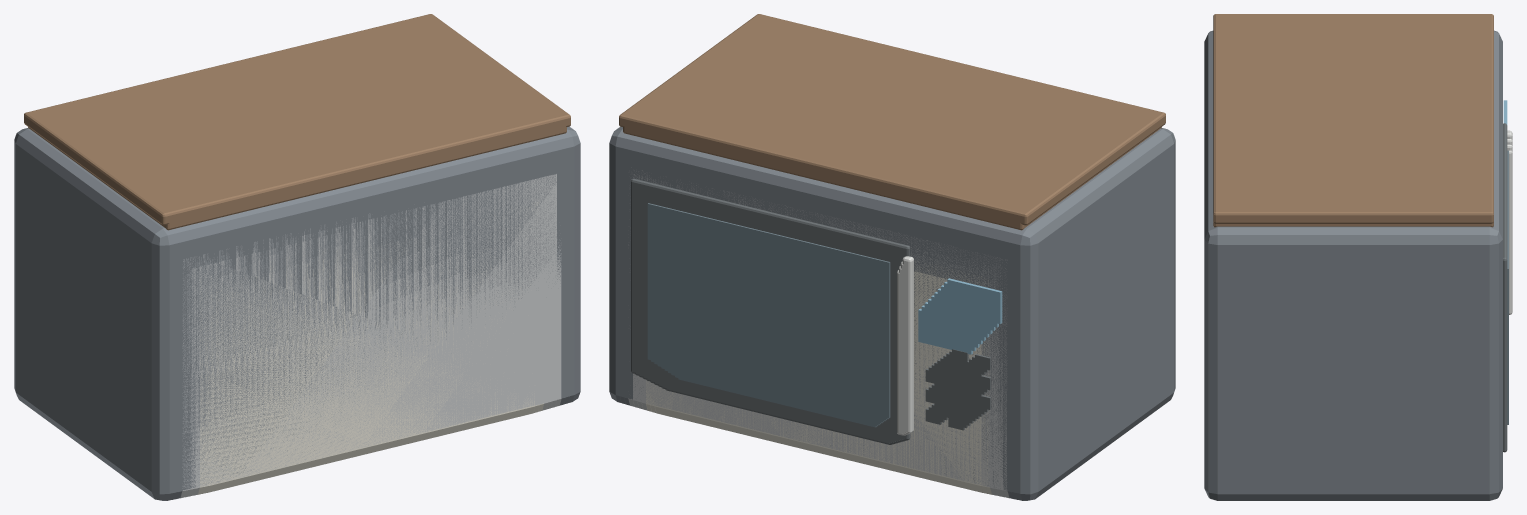
File: Gear03.fbx
3 views of the same model, side by side, from view 1: azimuth 30°, elevation 25°; view 2: azimuth 150°, elevation 25°; view 3: azimuth 270°, elevation 25° (orthographic).
Parts seen in each view (by area): view 1: Gear03_V10_Graphite, Gear03_V10_Walnut, Gear03_V5_BrushedSteel, Gear03_V7_BrushedSteel, Gear03_V3_Ivory, Gear03_V1_Ivory, Gear03_V6_BrushedSteel, Gear03_V4_BrushedSteel, Gear03_V9_Walnut, Gear03_V9_Graphite; view 2: Gear03_V10_Graphite, Gear03_V10_Walnut, Gear03_V3_Glass, Gear03_V1_Glass, Gear03_V10_Glass, Gear03_V10_Charcoal, Gear03_V1_Ivory, Gear03_V7_Glass, Gear03_V6_BrushedSteel, Gear03_V9_Graphite, Gear03_V5_BrushedSteel, Gear03_V5_Glass (+27 smaller); view 3: Gear03_V10_Graphite, Gear03_V10_Walnut, Gear03_V10_Charcoal, Gear03_V9_Walnut, Gear03_V7_Chrome, Gear03_V10_Glass.
Boxes of the visible parts, x1,y1,x2,y2 form: Gear03_V10_Graphite: (14,126,580,500); Gear03_V10_Walnut: (24,14,570,225); Gear03_V5_BrushedSteel: (189,203,552,496); Gear03_V7_BrushedSteel: (180,213,561,498); Gear03_V3_Ivory: (197,249,543,494); Gear03_V1_Ivory: (206,239,535,492); Gear03_V6_BrushedSteel: (185,174,556,497); Gear03_V4_BrushedSteel: (193,189,548,495); Gear03_V9_Walnut: (28,125,566,230); Gear03_V9_Graphite: (171,205,569,499); Gear03_V10_Graphite: (609,126,1175,500); Gear03_V10_Walnut: (619,14,1165,225); Gear03_V3_Glass: (671,241,879,425); Gear03_V1_Glass: (678,252,876,427); Gear03_V10_Glass: (647,203,890,418); Gear03_V10_Charcoal: (631,178,991,440); Gear03_V1_Ivory: (654,271,983,492); Gear03_V7_Glass: (657,224,885,421); Gear03_V6_BrushedSteel: (633,174,1004,497); Gear03_V9_Graphite: (620,168,1018,499); Gear03_V5_BrushedSteel: (637,247,1000,496); Gear03_V5_Glass: (664,231,882,423); Gear03_V10_Graphite: (1204,30,1502,500); Gear03_V10_Walnut: (1213,14,1493,223); Gear03_V10_Charcoal: (1503,123,1507,452); Gear03_V9_Walnut: (1213,222,1493,227); Gear03_V7_Chrome: (1509,150,1512,314); Gear03_V10_Glass: (1507,150,1508,424).
Bounding box in the file's own units: 56.35 × 36.5 × 35.1.
